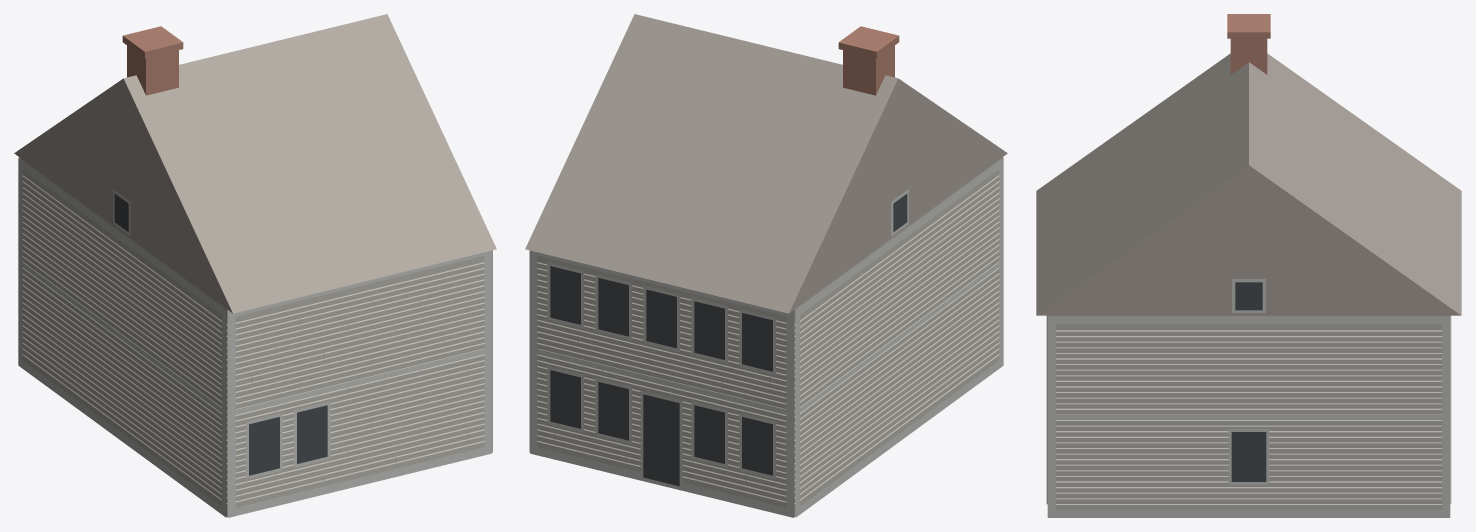
Rendered from recon_1835_west_019__inferred_1835.glb.
The picture shows the model from 3 angles, left to right: view 1: azimuth 30°, elevation 25°; view 2: azimuth 150°, elevation 25°; view 3: azimuth 270°, elevation 25°; orthographic projection. The views are drawn at different scales.
Visible parts, largest first — view 1: recon_1835_west_019__inferred_1835; view 2: recon_1835_west_019__inferred_1835; view 3: recon_1835_west_019__inferred_1835.
Part boxes in pixels (x1=…): recon_1835_west_019__inferred_1835: x1=14, y1=14, x2=496, y2=517; recon_1835_west_019__inferred_1835: x1=525, y1=14, x2=1007, y2=517; recon_1835_west_019__inferred_1835: x1=1036, y1=14, x2=1461, y2=517.
Bounding box in the file's own units: 6.8 × 9.6 × 9.64.
